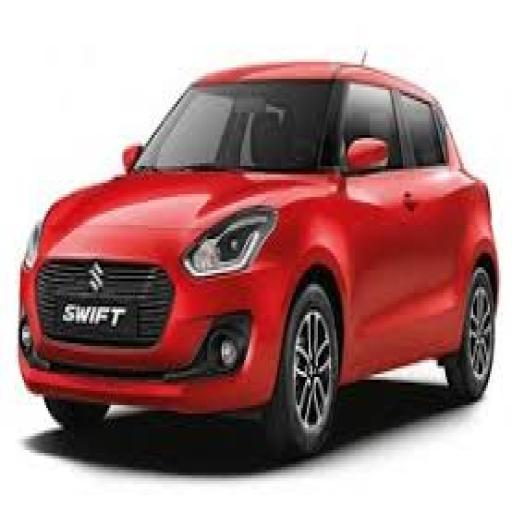car: (3, 34, 512, 479)
